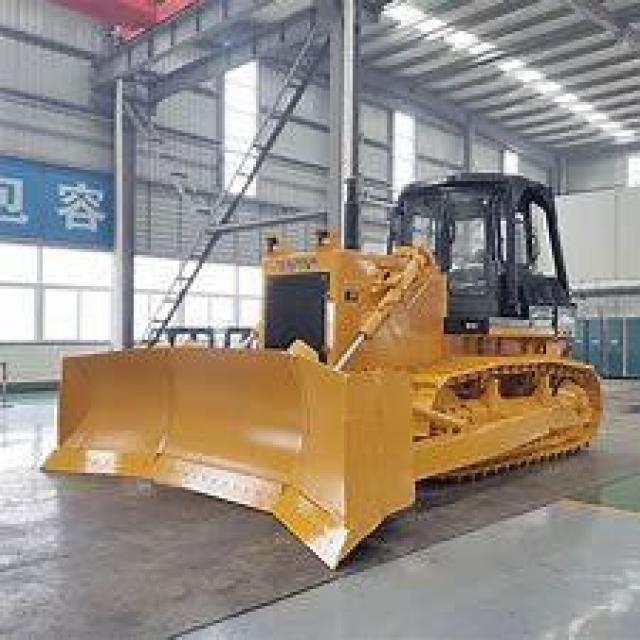Bulldozer: (43, 139, 617, 575)
